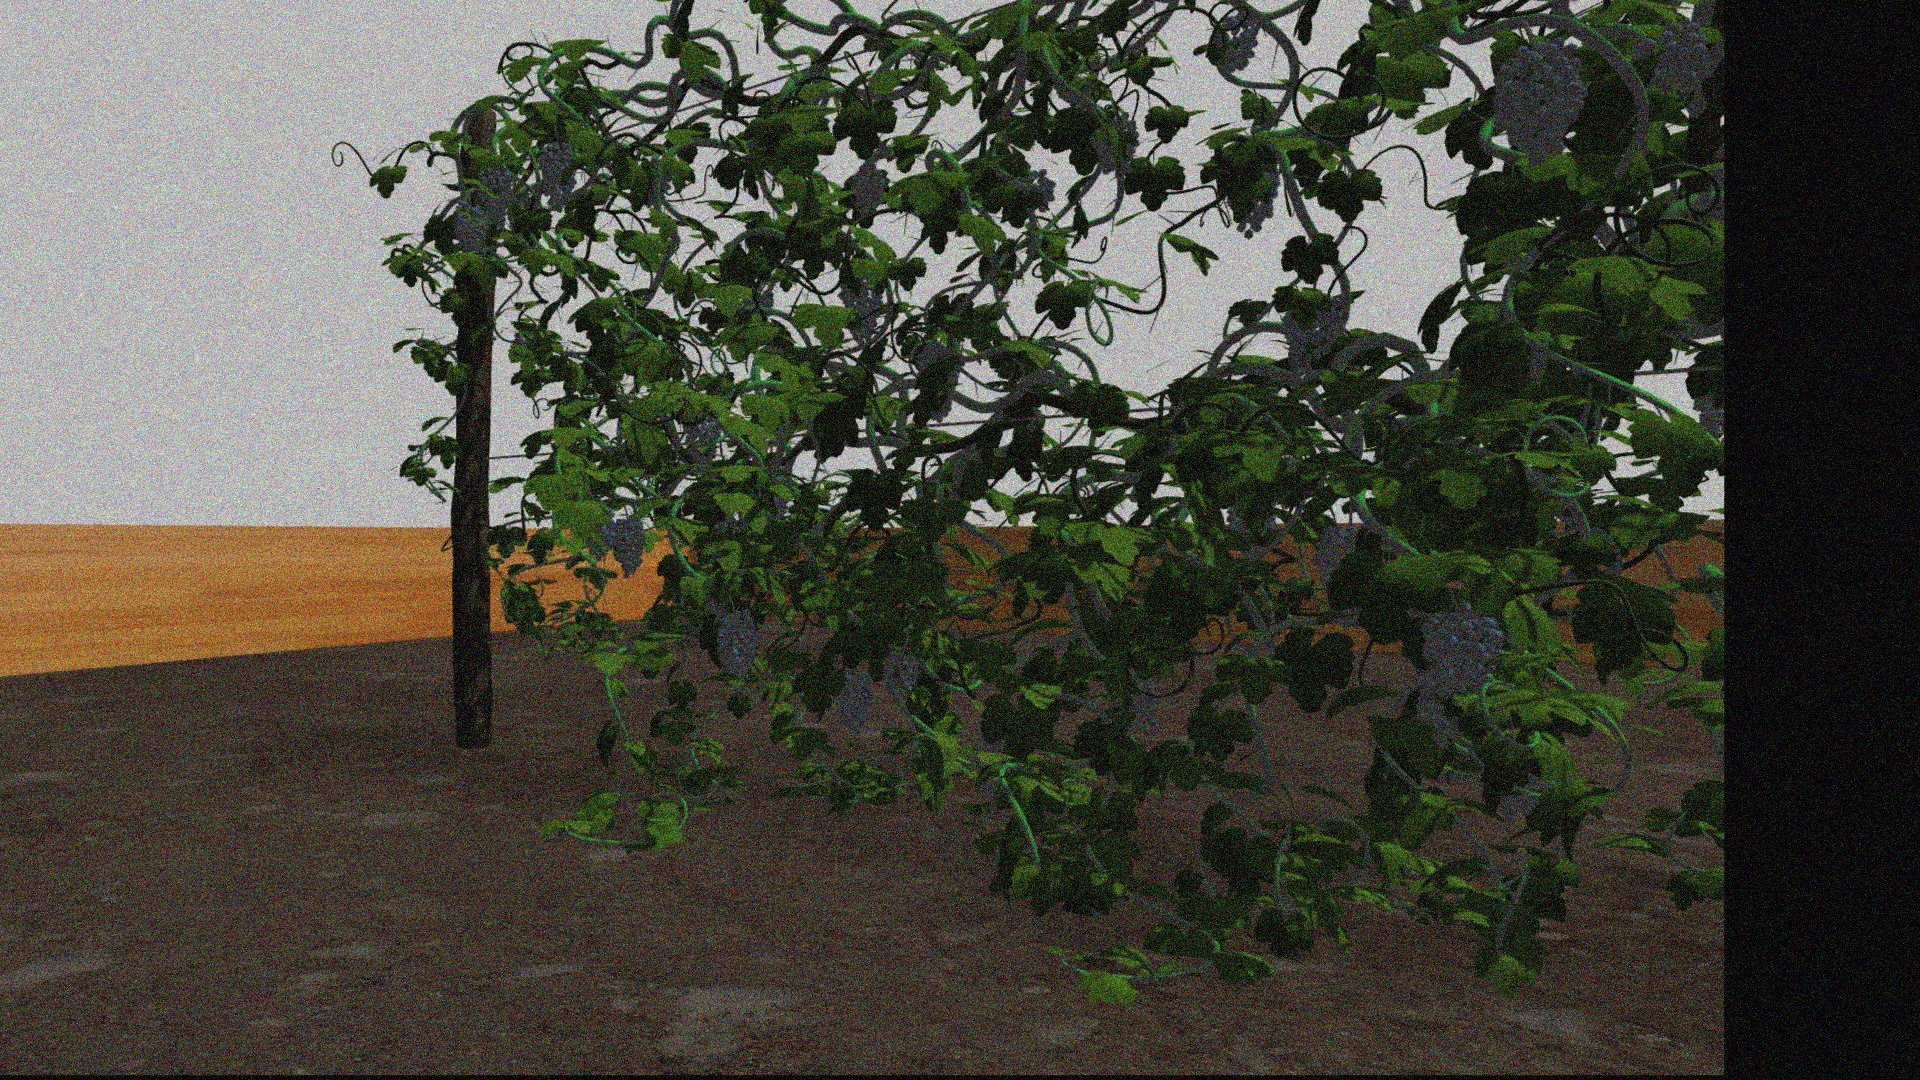grape: (1493, 37, 1586, 164), (1419, 603, 1506, 694), (1278, 289, 1346, 377), (1312, 521, 1367, 625), (1638, 15, 1709, 94), (1408, 699, 1462, 761), (829, 665, 876, 736), (717, 611, 760, 683), (1207, 17, 1258, 76), (1112, 673, 1164, 729), (841, 277, 884, 345), (880, 645, 922, 709), (541, 142, 578, 208), (476, 164, 514, 225), (612, 516, 647, 582), (684, 411, 720, 465), (849, 164, 886, 212), (452, 204, 487, 256), (584, 520, 613, 560)
